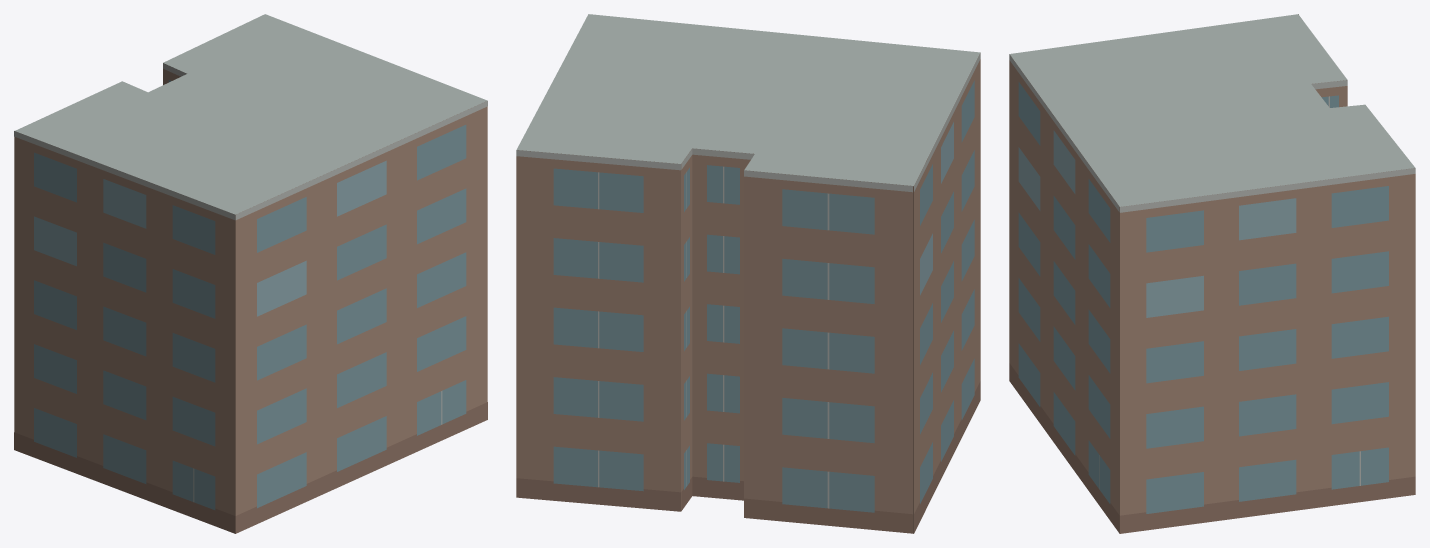
The model's file is survey-upis-32609977.glb.
3 views of the same model, side by side, from view 1: azimuth 30°, elevation 25°; view 2: azimuth 150°, elevation 25°; view 3: azimuth 270°, elevation 25° (orthographic). The views are drawn at different scales.
Parts seen in each view (by area): view 1: survey-upis-32609977.tmp; view 2: survey-upis-32609977.tmp; view 3: survey-upis-32609977.tmp.
Part boxes in pixels (x1=…): survey-upis-32609977.tmp: x1=14, y1=14, x2=487, y2=533; survey-upis-32609977.tmp: x1=516, y1=14, x2=980, y2=533; survey-upis-32609977.tmp: x1=1009, y1=14, x2=1415, y2=533.
Size of the model in its own units: 17.1 by 13.5 by 15.21.
